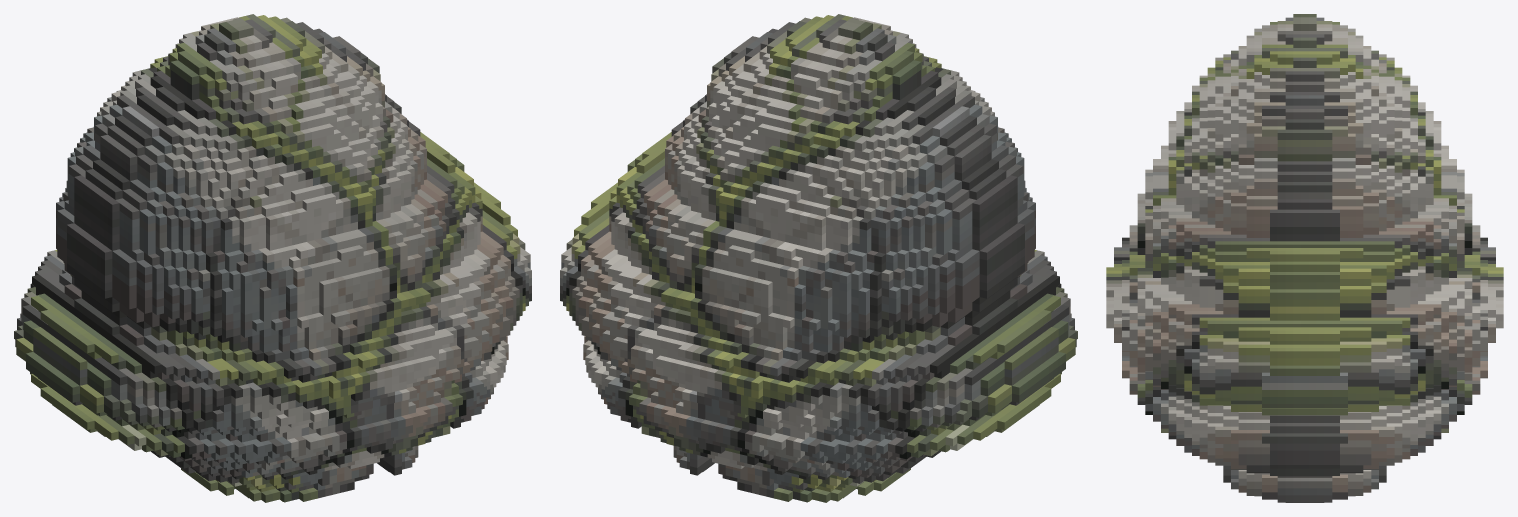
File: pixel_stone.glb
3 renders of one model, left to right at view 1: azimuth 30°, elevation 25°; view 2: azimuth 150°, elevation 25°; view 3: azimuth 270°, elevation 25°, orthographic. The views are drawn at different scales.
Parts seen in each view (by area): view 1: VoxelObject; view 2: VoxelObject; view 3: VoxelObject.
Part boxes in pixels (x1,y1,x2,y2): VoxelObject: (14,14,531,502); VoxelObject: (560,14,1077,502); VoxelObject: (1106,14,1503,502).
Size of the model in its own units: 1.83 by 1.8 by 1.53.
